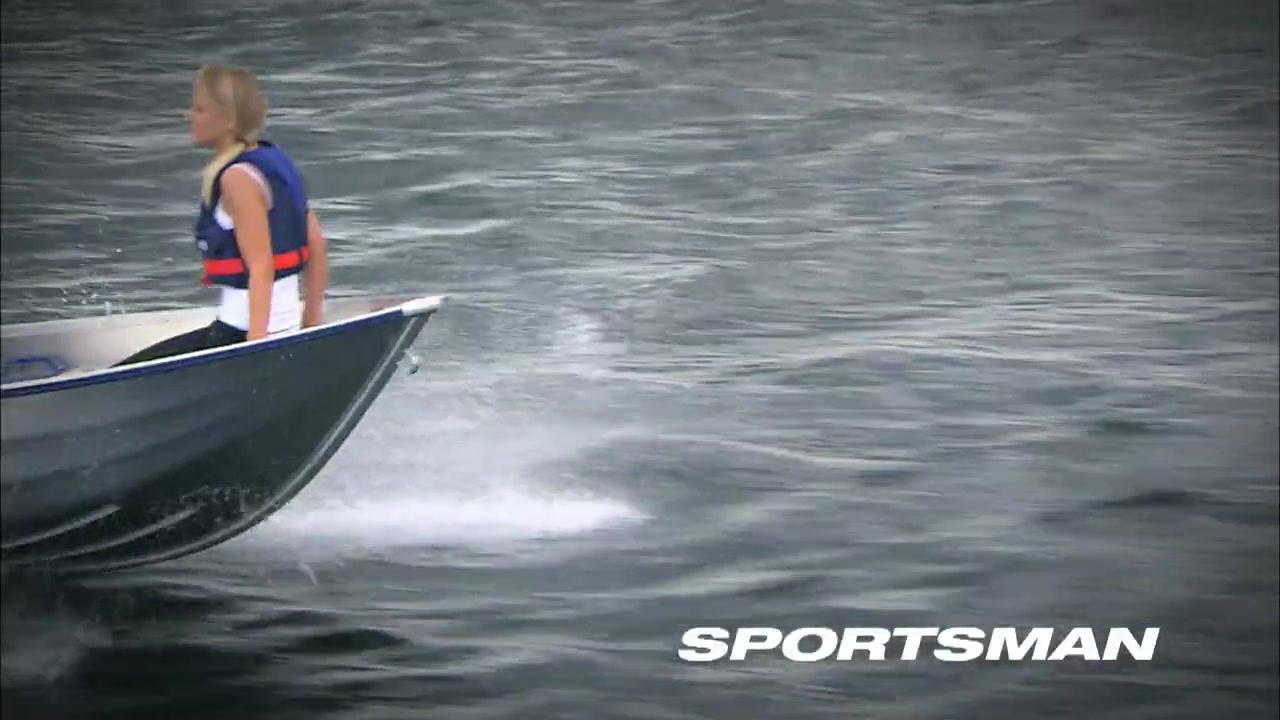boat: (4, 278, 451, 586)
